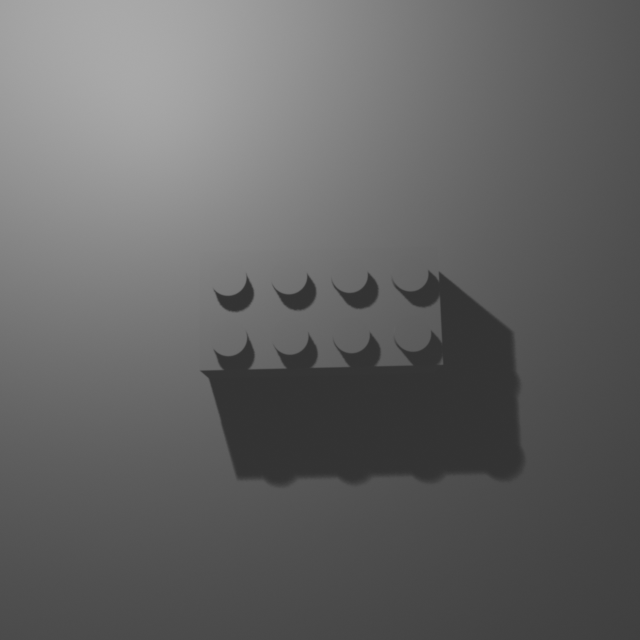lego_2x4: (198, 243, 445, 378)
